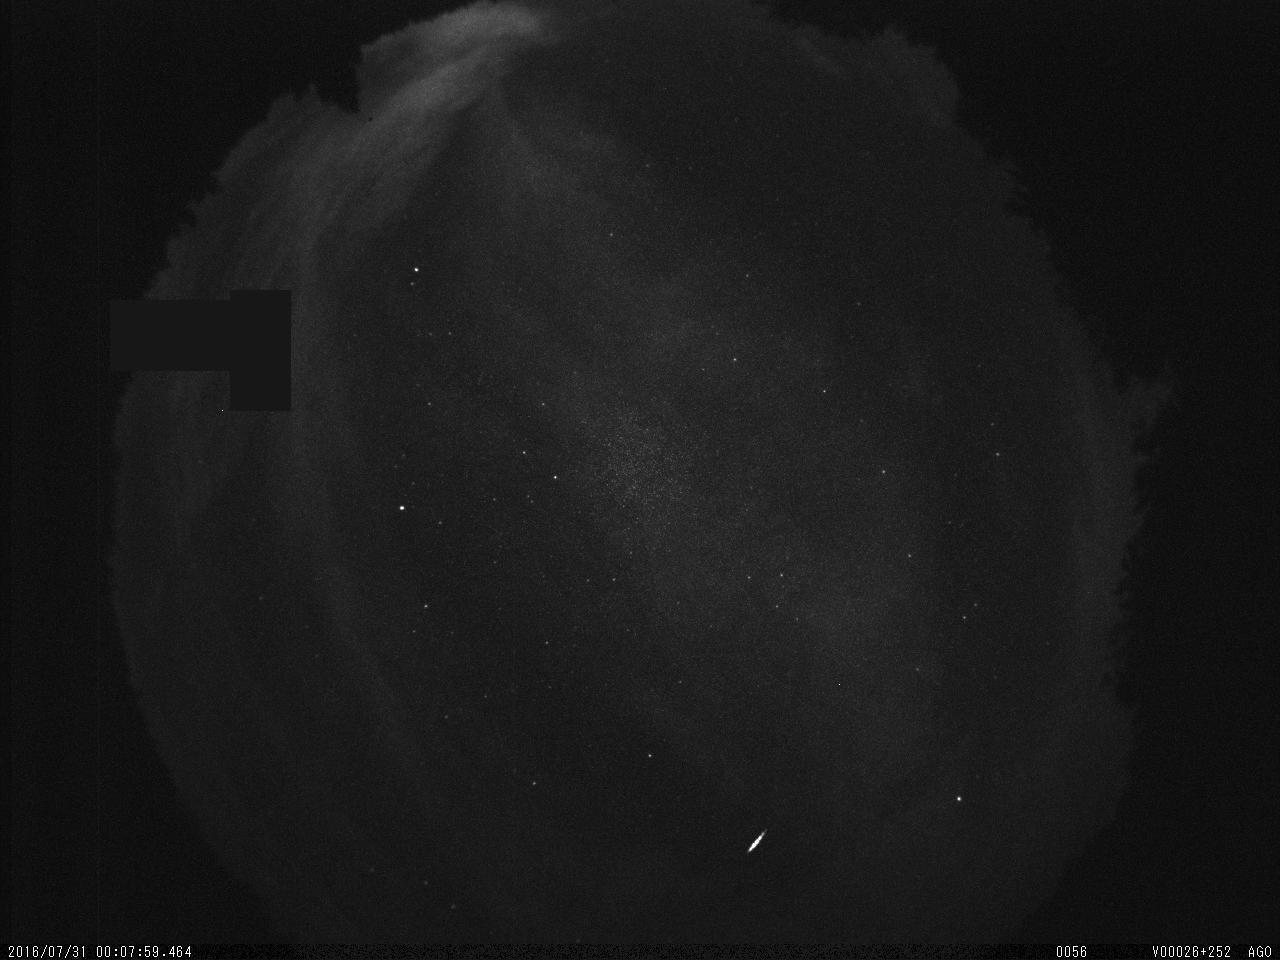meteor: (713, 803, 793, 887)
